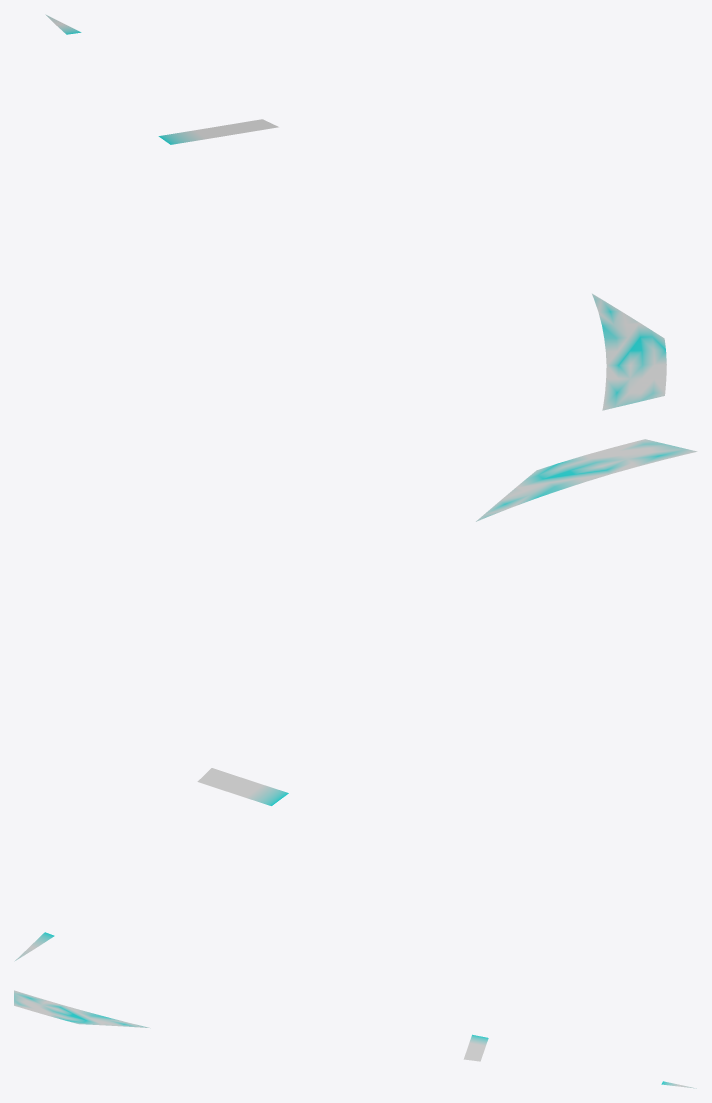
3 renders of one model, top to bottom at view 1: azimuth 30°, elevation 25°; view 2: azimuth 150°, elevation 25°; view 3: azimuth 270°, elevation 25°, orthographic. The views are drawn at different scales.
Visible parts, largest first — view 1: SpaceCenter_Long3_GenerateRoad_Asphalt_PCGMesh_Decal_Mesh_x1; view 2: SpaceCenter_Long3_GenerateRoad_Asphalt_PCGMesh_Decal_Mesh_x1; view 3: SpaceCenter_Long3_GenerateRoad_Asphalt_PCGMesh_Decal_Mesh_x1.
Boxes of the visible parts, x1=… form: SpaceCenter_Long3_GenerateRoad_Asphalt_PCGMesh_Decal_Mesh_x1: x1=45, y1=14, x2=666, y2=410; SpaceCenter_Long3_GenerateRoad_Asphalt_PCGMesh_Decal_Mesh_x1: x1=14, y1=439, x2=697, y2=961; SpaceCenter_Long3_GenerateRoad_Asphalt_PCGMesh_Decal_Mesh_x1: x1=14, y1=990, x2=696, y2=1088.
Size of the model in its own units: 1469 by 157 by 160.
